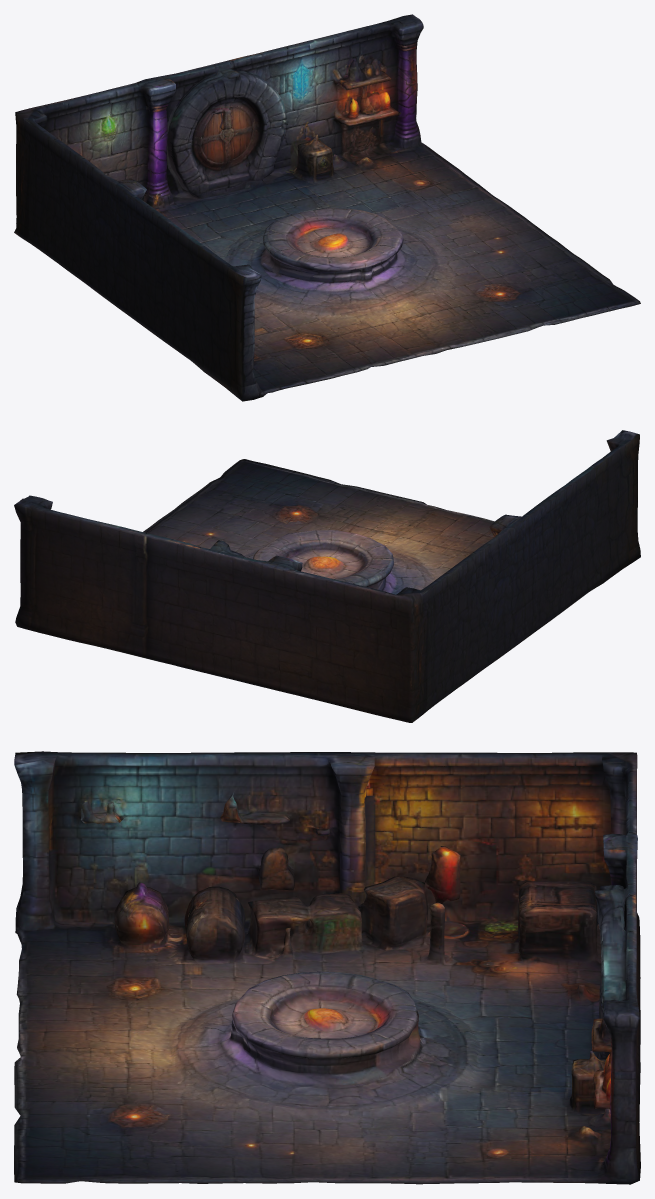
File: ultra_detailed_magic__0502101529.fbx
The picture shows the model from 3 angles, top to bottom: view 1: azimuth 30°, elevation 25°; view 2: azimuth 150°, elevation 25°; view 3: azimuth 270°, elevation 25°; orthographic projection. The views are drawn at different scales.
Visible parts, largest first — view 1: Mesh_0; view 2: Mesh_0; view 3: Mesh_0.
Part boxes in pixels (box(x1,y1,x2,y2)): Mesh_0: box(14, 14, 640, 401); Mesh_0: box(14, 430, 640, 722); Mesh_0: box(14, 751, 640, 1184).
Bounding box in the file's own units: 200 × 60.29 × 200.
Materials: 1 (1 with a texture image).
